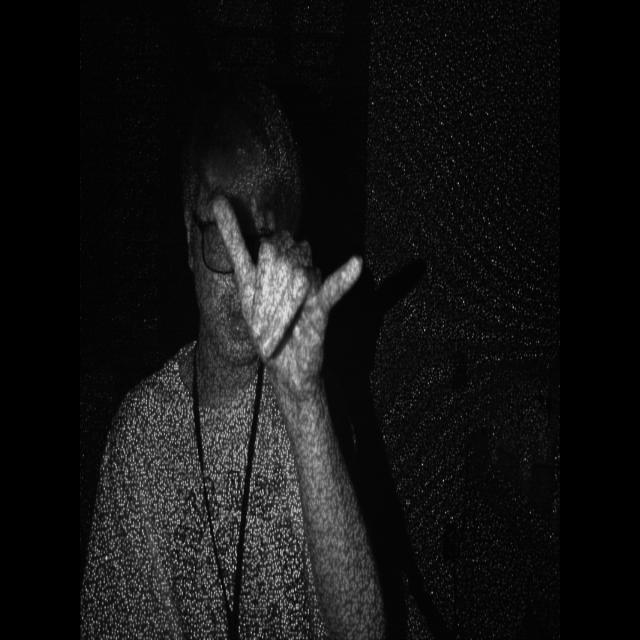Y: (206, 187, 366, 400)
